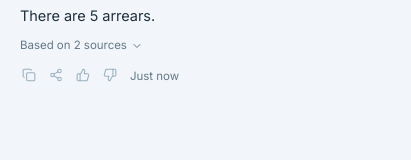
Test case: ChatMessage evidence trail › shows a collapsed "Based on N source(s)" toggle, and expands to the real trail lines on click
Check: the text "students_roster" is not shown
What coordinates should you click on to do the following:
click the button "Based on 2 sources"
I would click on:
 (81, 46)
Its box is [20,38,143,54].
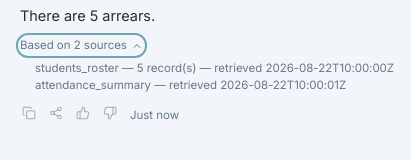
Check: the list item "students_roster — 5 record(s)" is shown, box [35,61,394,75]
Check: the list item "attendance_summary — retrieved 2026-08-22T10:00:01Z" is shown, box [35,78,346,92]
